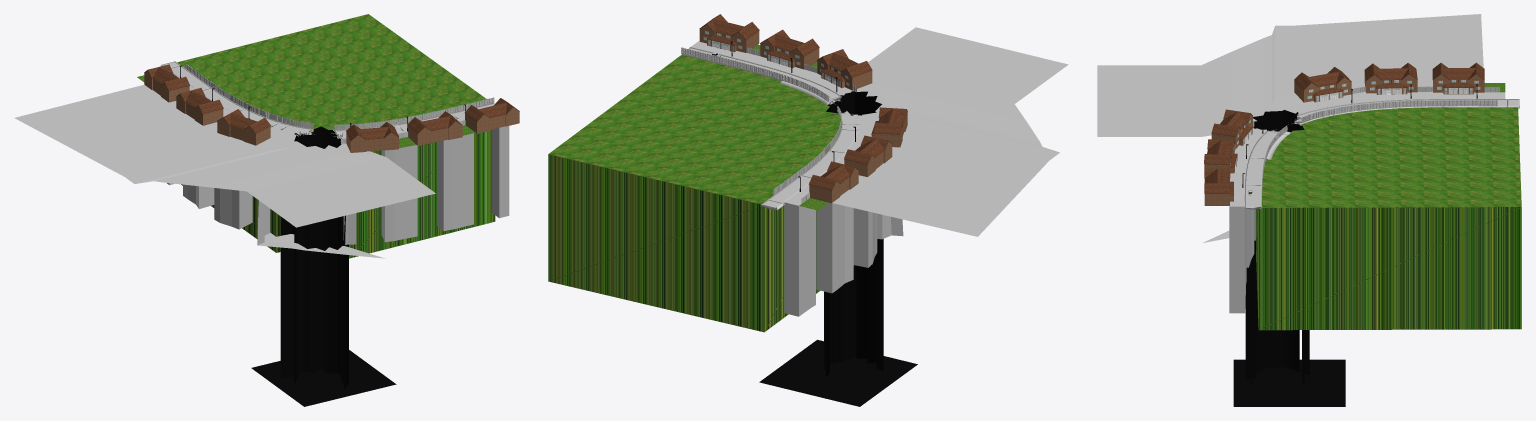
File: LevelHole.fbx
The picture shows the model from 3 angles, left to right: view 1: azimuth 30°, elevation 25°; view 2: azimuth 150°, elevation 25°; view 3: azimuth 270°, elevation 25°; orthographic projection. The views are drawn at different scales.
Visible parts, largest first — view 1: Drive, AlwaysGreener, AlwaysGreener.001, Road, Cube.001, Drive.005, HouseBody.001, HouseBody, HouseBody.002, HouseBody.004, HouseBody.005, HouseBody.006; view 2: AlwaysGreener, Drive, AlwaysGreener.001, Drive.005, Road, Cube.001, HouseBody.006, HouseBody.005, HouseBody.001, HouseBody, HouseBody.002, SideRoofs.004 (+1 smaller); view 3: AlwaysGreener, Drive, AlwaysGreener.001, Drive.005, Road, Cube.001, HouseBody.004, SideRoofs, HouseBody.005, SideRoofs.001, SideRoofs.002, HouseBody.006.
Boxes of the visible parts, bbox=[...] form: Drive: bbox=[14, 73, 509, 258]; AlwaysGreener: bbox=[177, 14, 495, 258]; AlwaysGreener.001: bbox=[251, 126, 396, 406]; Road: bbox=[160, 61, 494, 138]; Cube.001: bbox=[185, 63, 494, 130]; Drive.005: bbox=[294, 135, 346, 388]; HouseBody.001: bbox=[407, 121, 462, 145]; HouseBody: bbox=[465, 107, 519, 133]; HouseBody.002: bbox=[346, 132, 398, 152]; HouseBody.004: bbox=[217, 118, 270, 145]; HouseBody.005: bbox=[176, 94, 223, 125]; HouseBody.006: bbox=[144, 70, 189, 102]; AlwaysGreener: bbox=[548, 55, 854, 332]; Drive: bbox=[691, 27, 1068, 316]; AlwaysGreener.001: bbox=[759, 101, 917, 406]; Drive.005: bbox=[838, 91, 883, 378]; Road: bbox=[681, 47, 859, 209]; Cube.001: bbox=[681, 47, 841, 195]; HouseBody.006: bbox=[809, 168, 858, 203]; HouseBody.005: bbox=[844, 141, 892, 176]; HouseBody.001: bbox=[760, 39, 819, 69]; HouseBody: bbox=[699, 24, 759, 52]; HouseBody.002: bbox=[817, 57, 872, 90]; SideRoofs.004: bbox=[873, 107, 907, 134]; AlwaysGreener: bbox=[1256, 107, 1521, 330]; Drive: bbox=[1097, 14, 1505, 313]; AlwaysGreener.001: bbox=[1233, 125, 1345, 406]; Drive.005: bbox=[1245, 110, 1299, 384]; Road: bbox=[1245, 99, 1519, 209]; Cube.001: bbox=[1261, 100, 1497, 206]; HouseBody.004: bbox=[1294, 77, 1351, 102]; SideRoofs: bbox=[1204, 168, 1230, 193]; HouseBody.005: bbox=[1364, 72, 1417, 93]; SideRoofs.001: bbox=[1204, 139, 1234, 165]; SideRoofs.002: bbox=[1211, 109, 1252, 136]; HouseBody.006: bbox=[1433, 74, 1484, 92].
Bounding box in the file's own units: 35983 × 25189 × 33501.
